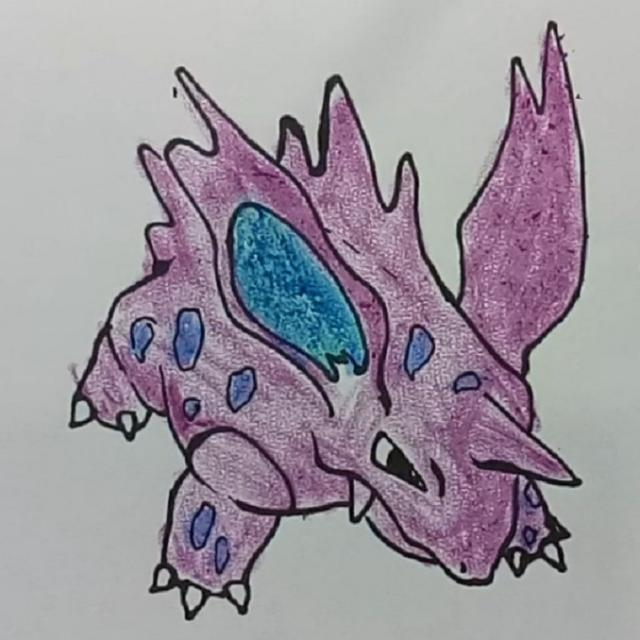Nidorino: (132, 66, 570, 588)
